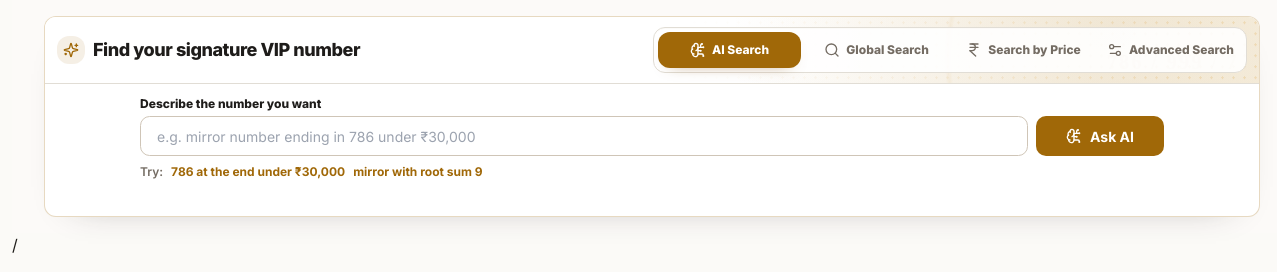
Test: SearchWorkbench › navigates homepage searches to the shop route
The image size is (1277, 272).
Type "mirror number under 30000" into the field labelled "Describe the number you want".
click(584, 136); type("mirror number under 30000")  # box [140,116,1028,156]
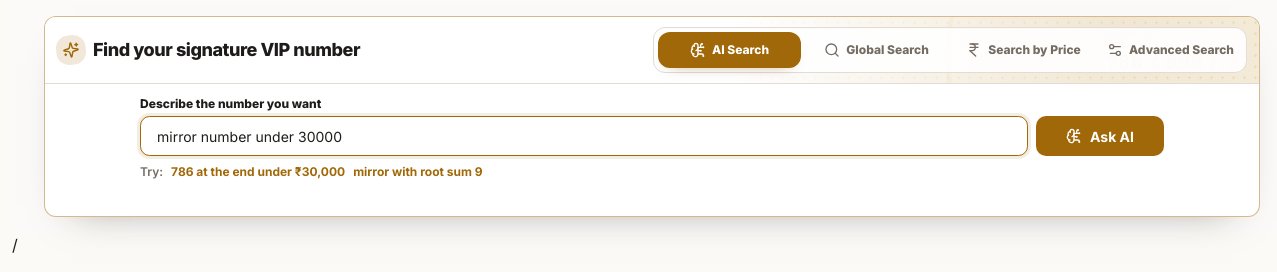
Click the button "Ask AI".
click(1100, 136)  # box [1036,116,1164,156]
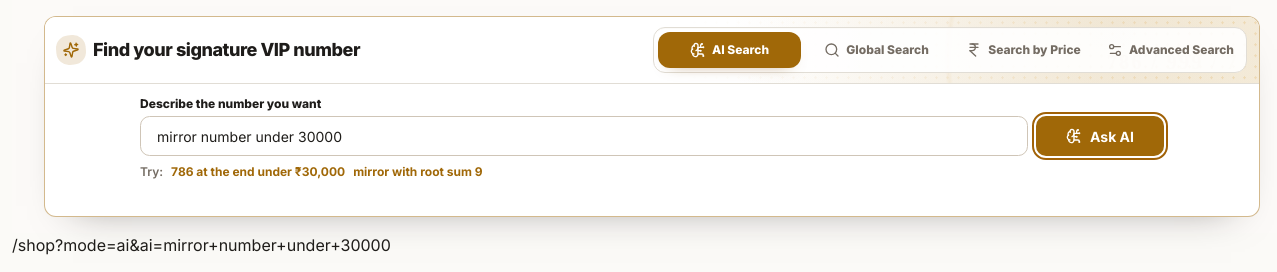
expect the text with test id "location" reads "/shop?mode=ai&ai=mirror+number+under+30000": met, box [12,235,391,255]
